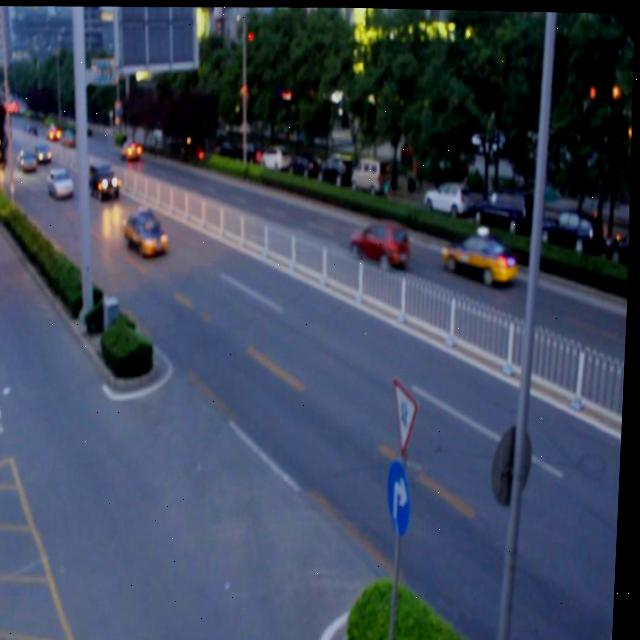car: (446, 235, 513, 280), (351, 224, 409, 266), (124, 211, 170, 255), (91, 165, 120, 195), (49, 169, 74, 197)
